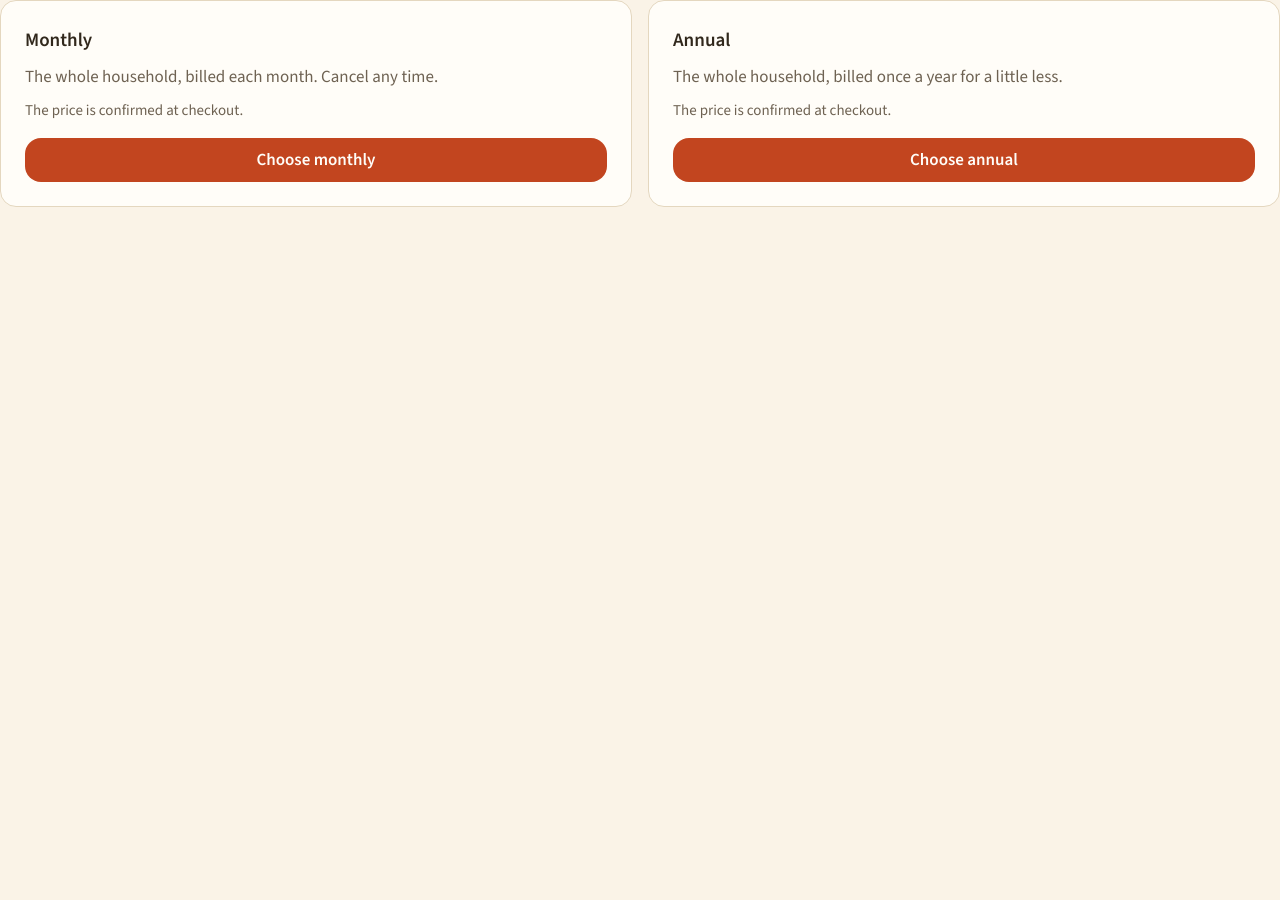
Test: BillingPanel checkout gate › does not start checkout if the gate is cancelled
Click the button "Choose monthly". click: (316, 160)
box: [25,138,607,182]
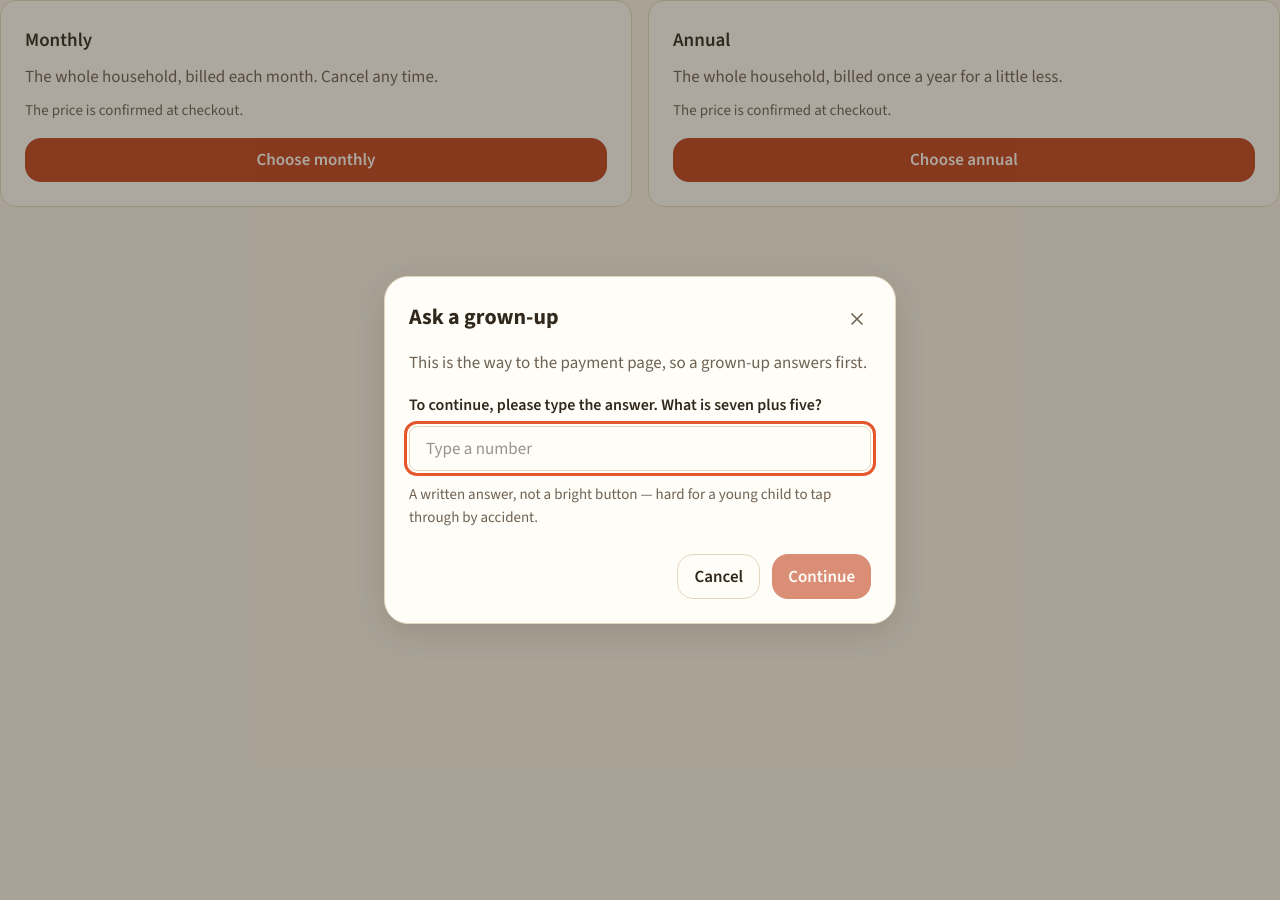
Click the button "Cancel". click: (719, 576)
box: [677,554,760,599]
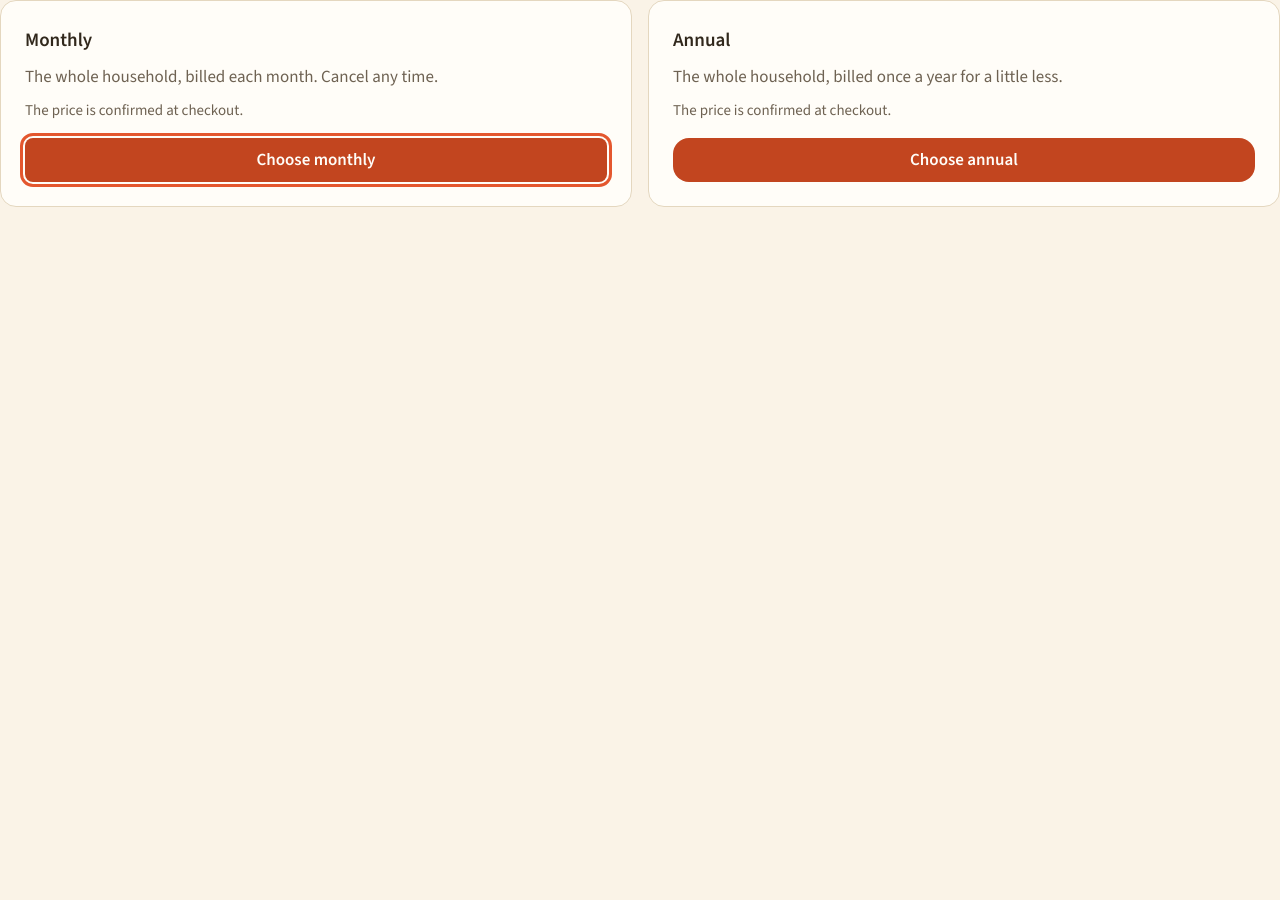
Check: the dialog is gone
